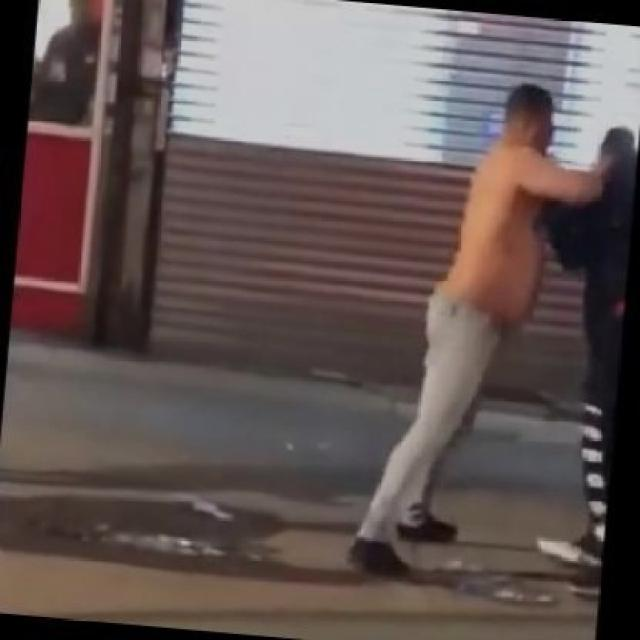fight: (343, 83, 640, 578)
